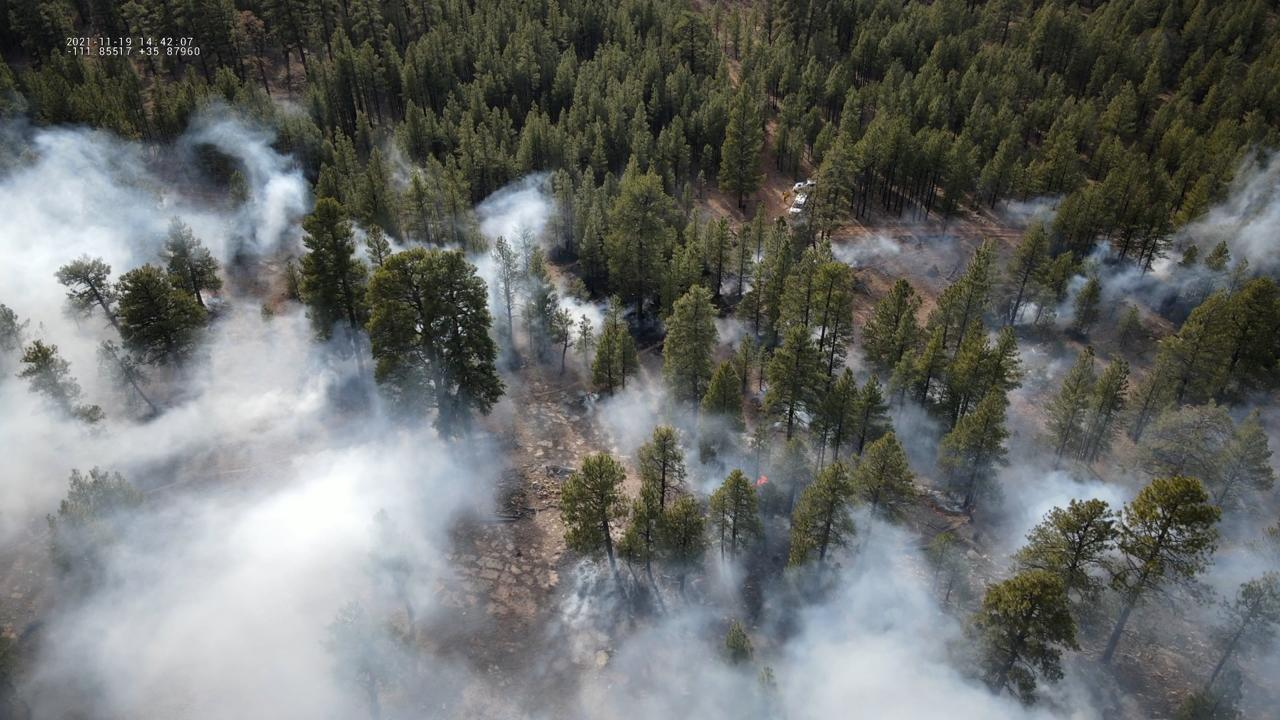fire: (752, 473, 768, 489)
smoke: (0, 94, 1280, 720), (1006, 144, 1280, 328), (830, 207, 974, 283), (345, 220, 441, 282), (1001, 194, 1069, 230)
